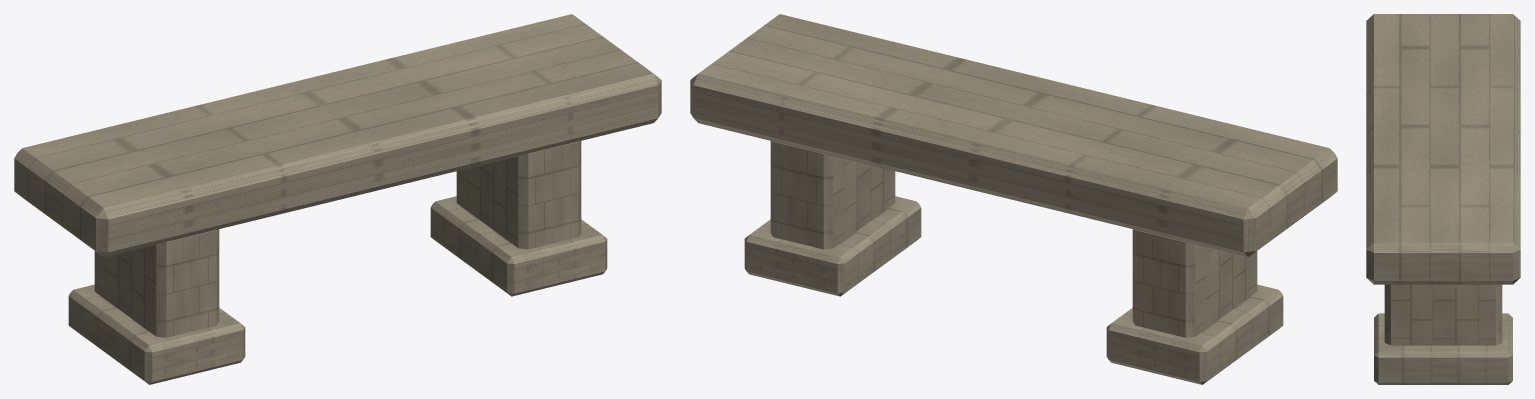
File: stone-bench.glb
3 renders of one model, left to right at view 1: azimuth 30°, elevation 25°; view 2: azimuth 150°, elevation 25°; view 3: azimuth 270°, elevation 25°, orthographic. The views are drawn at different scales.
Parts seen in each view (by area): view 1: stone-bench; view 2: stone-bench; view 3: stone-bench.
Boxes of the visible parts, box(x1,y1,x2,y2) form: stone-bench: box(14, 14, 661, 384); stone-bench: box(690, 14, 1337, 384); stone-bench: box(1366, 14, 1520, 384).
Bounding box in the file's own units: 1.8 × 0.58 × 0.5.
1 material, 1 textured.
